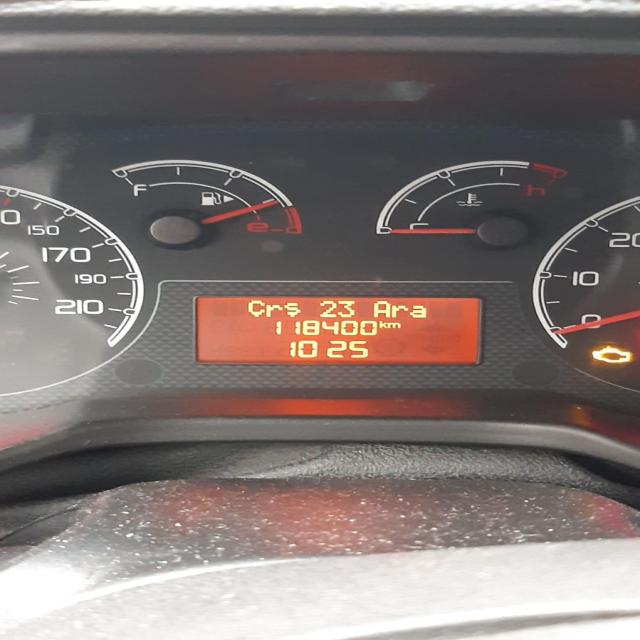odometer: (192, 294, 486, 368)
